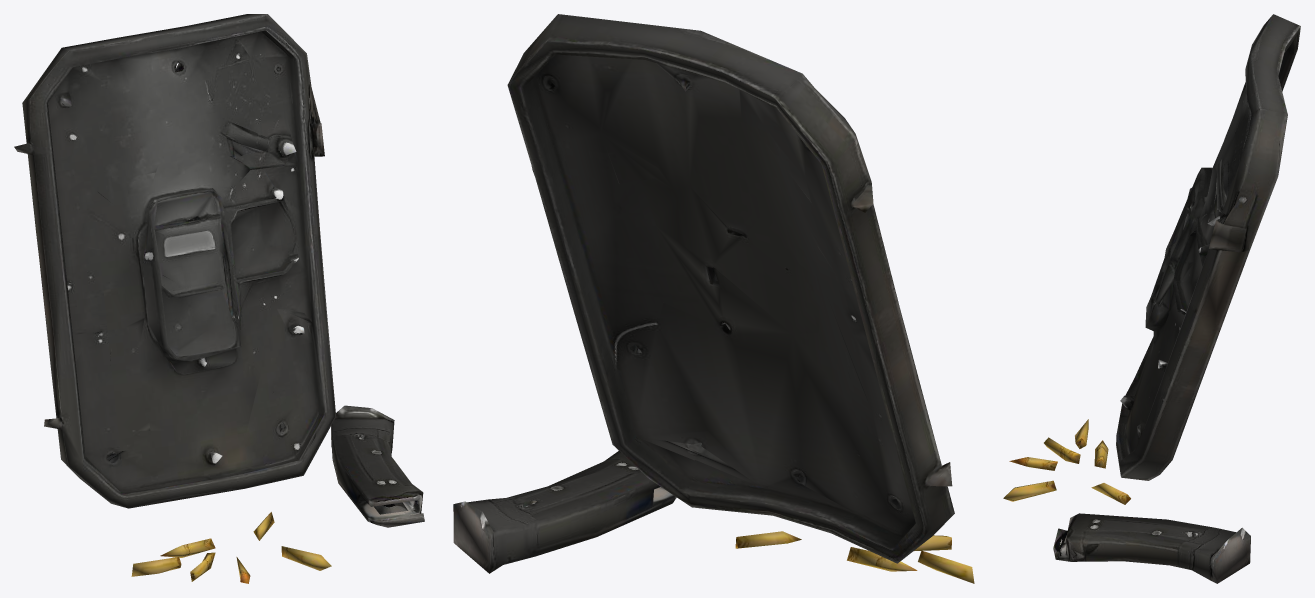
The model's file is riot_shield_cases.glb.
The picture shows the model from 3 angles, left to right: view 1: azimuth 30°, elevation 25°; view 2: azimuth 150°, elevation 25°; view 3: azimuth 270°, elevation 25°; orthographic projection. The views are drawn at different scales.
Parts seen in each view (by area): view 1: Model; view 2: Model; view 3: Model.
Part boxes in pixels (box(x1,y1,x2,y2)): Model: box(14, 14, 424, 583); Model: box(453, 14, 974, 583); Model: box(1003, 14, 1300, 583).
Bounding box in the file's own units: 0.838 × 0.996 × 0.6162.
1 material, 1 textured.
